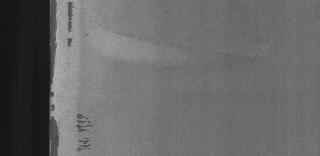oil spot: (50, 2, 60, 156), (74, 108, 96, 152), (65, 3, 85, 45)
